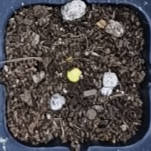chilli seed: (66, 67, 82, 82)
